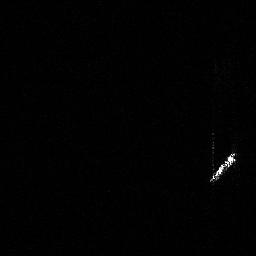ship: (205, 148, 239, 187)
